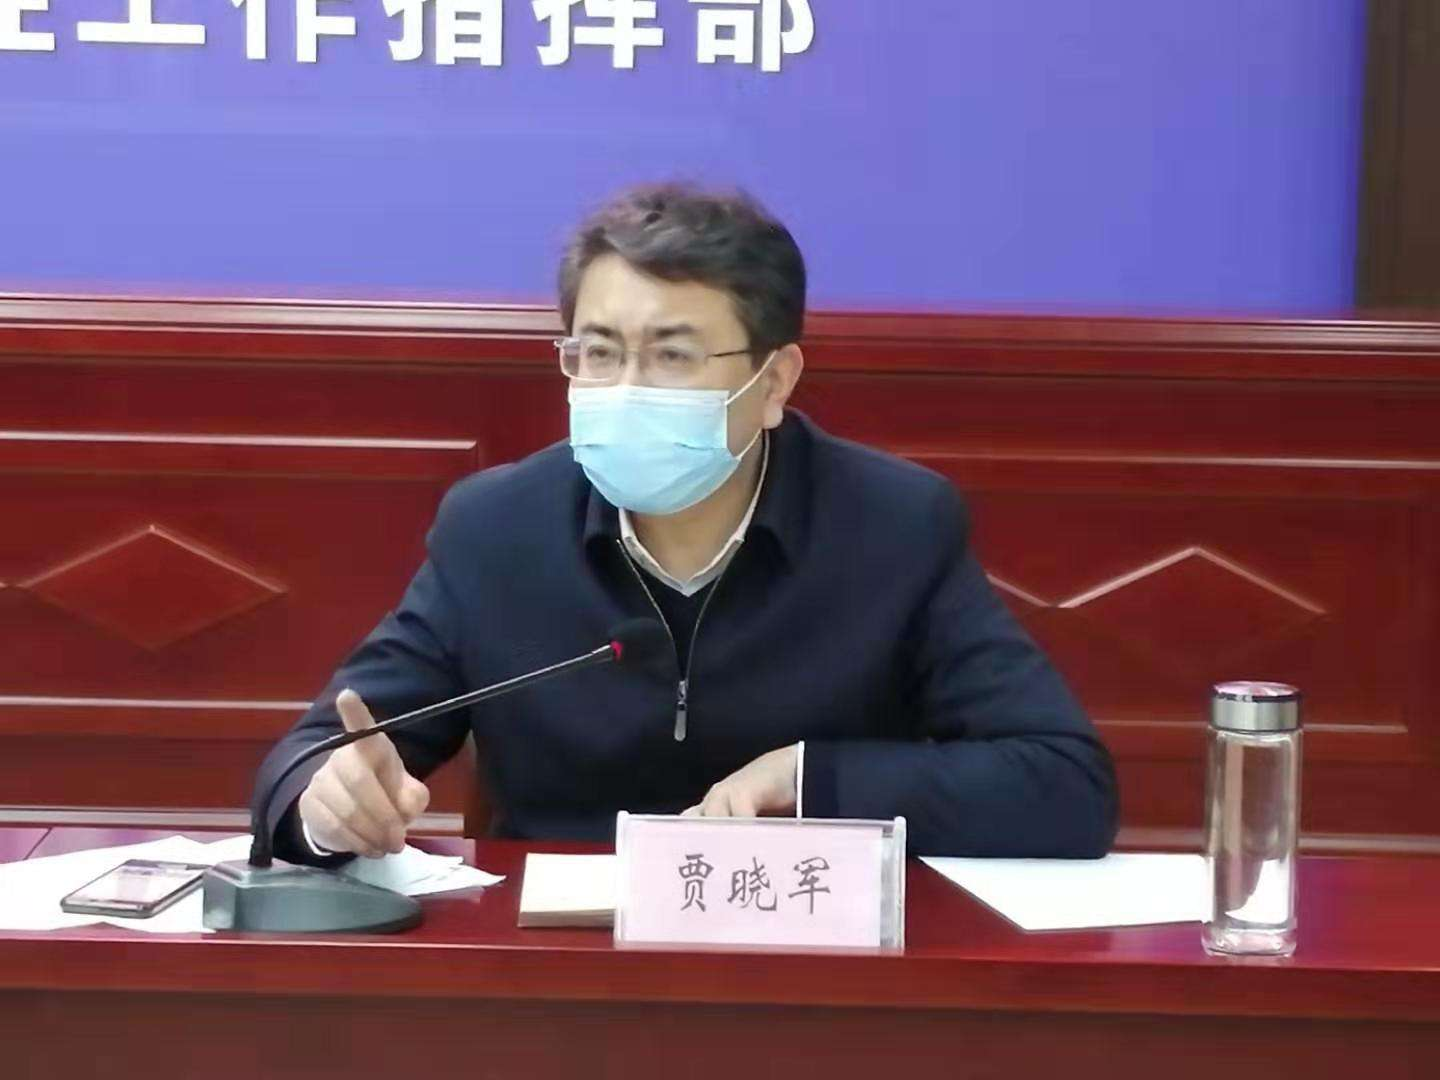Mask: (553, 248, 769, 511)
